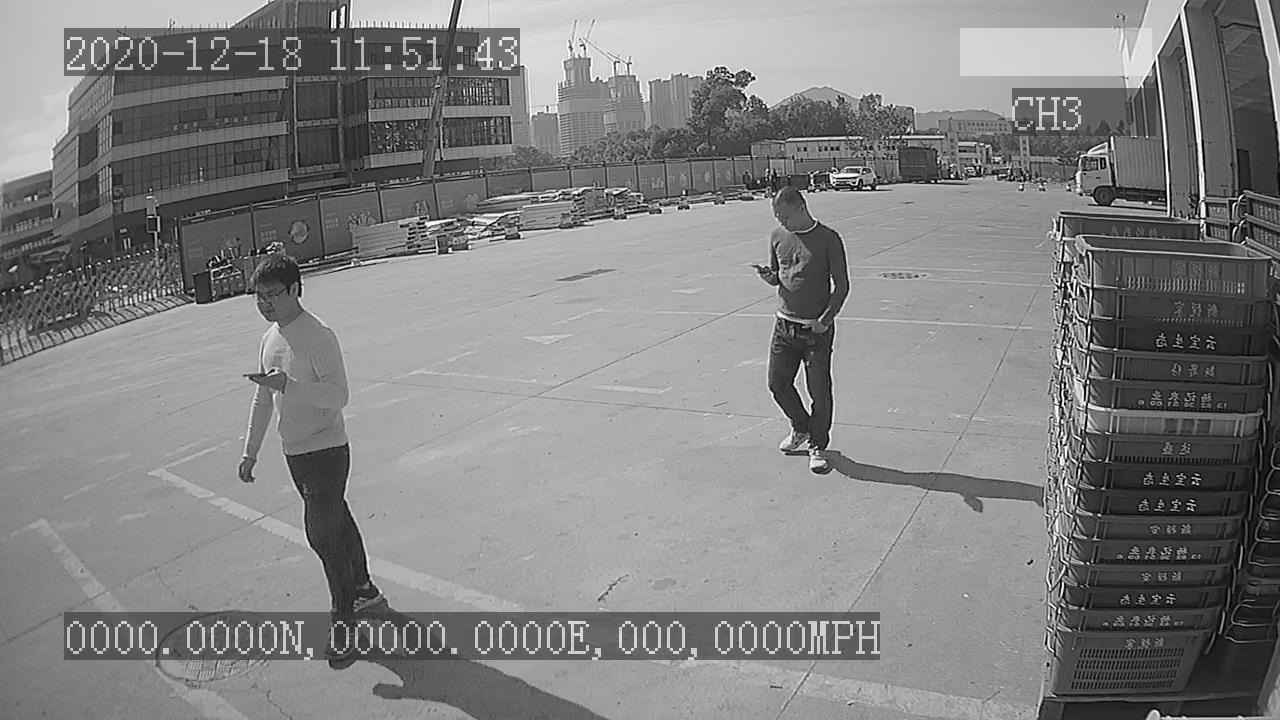person: (743, 177, 859, 477)
